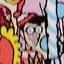waldo: (14, 11, 46, 46)
